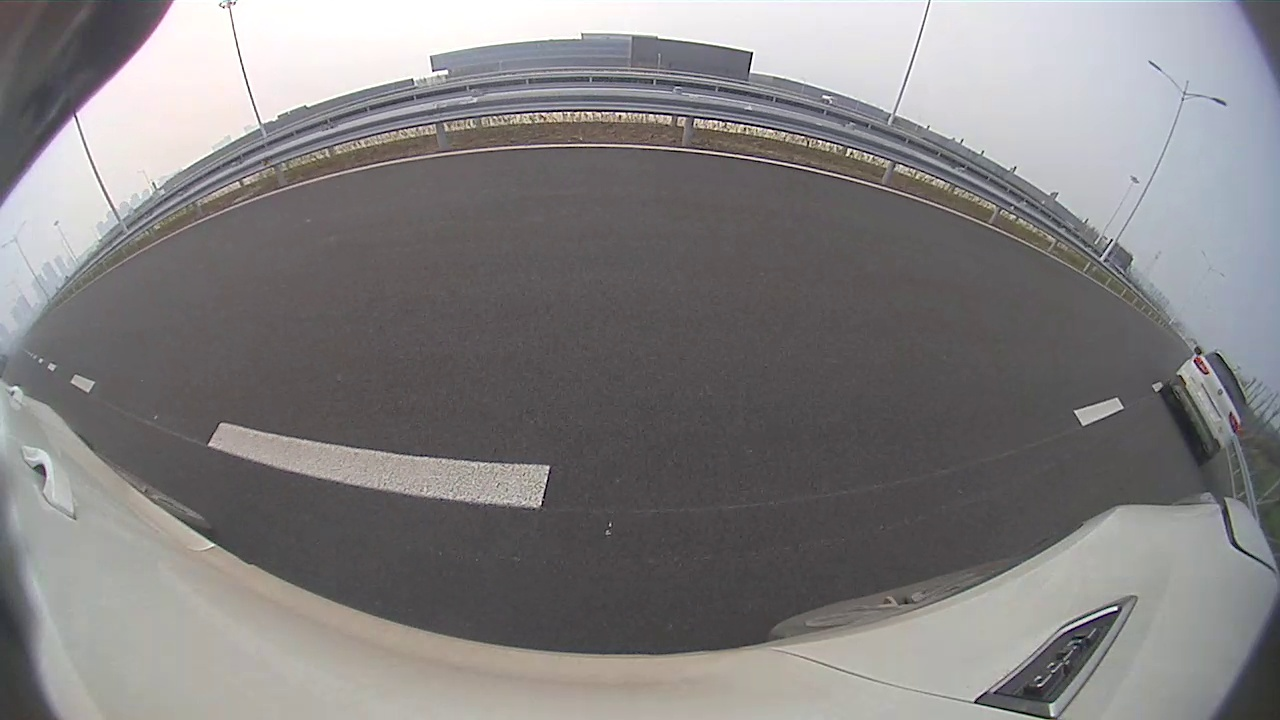car: (667, 56, 996, 282)
front: (664, 177, 688, 227)
rear: (736, 186, 792, 278)
